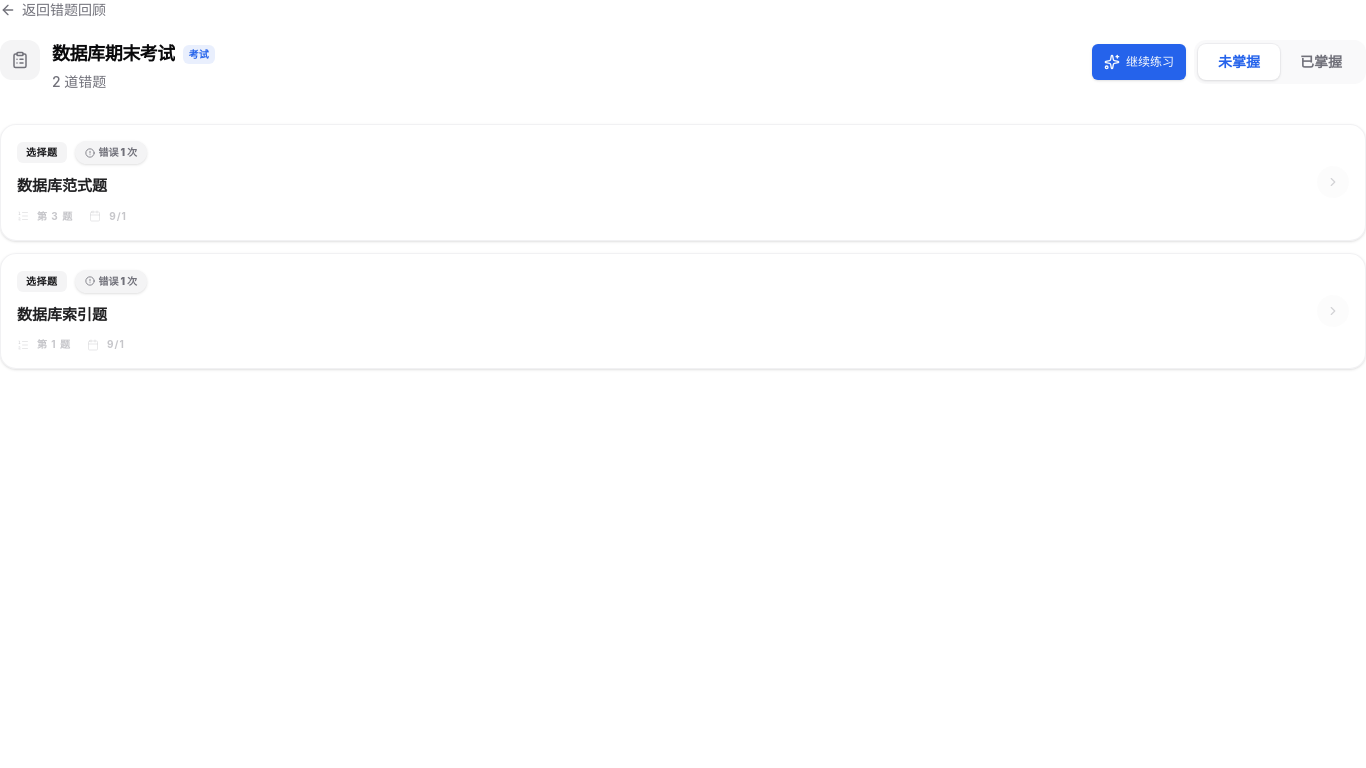
Test: WrongAnswerExamPage › asks for the question count per knowledge point before generating
Click the button "继续练习".
click(1139, 62)  # box [1092,44,1186,80]
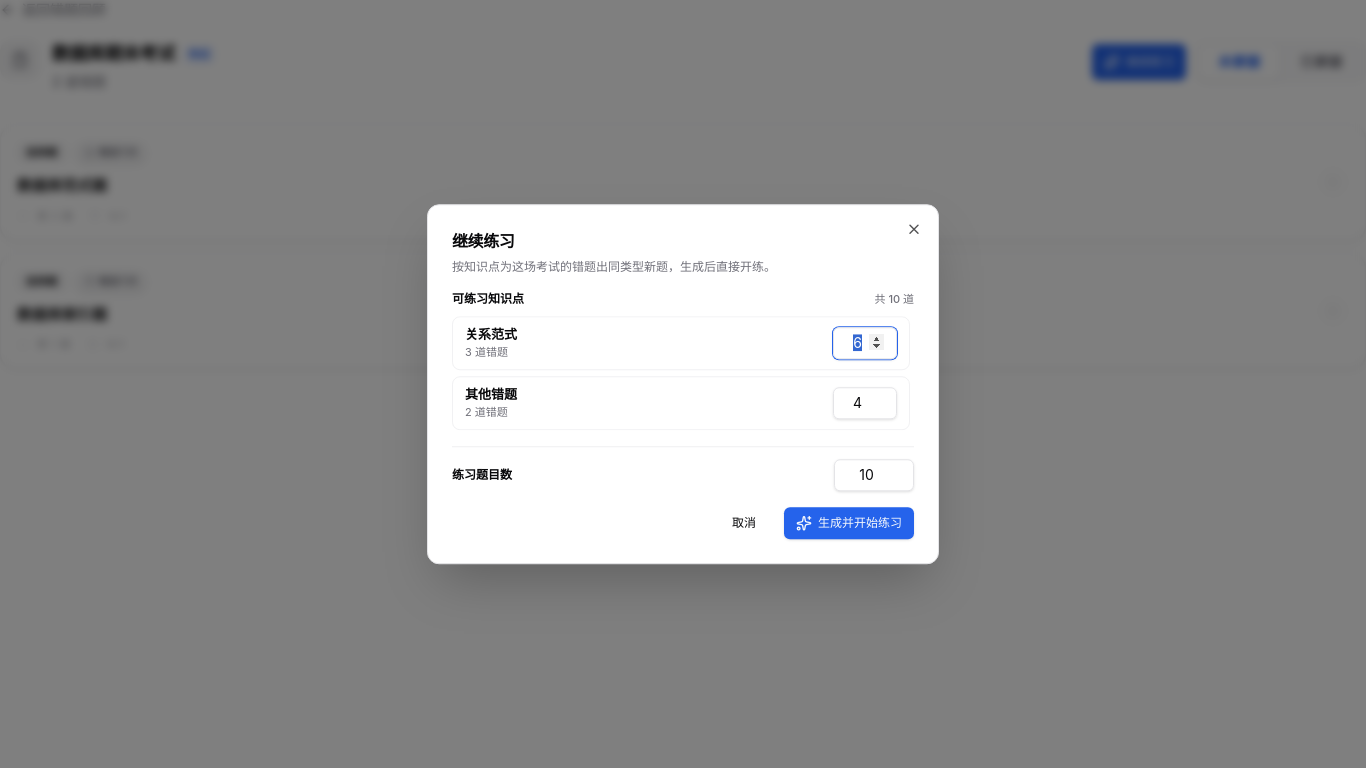
Check: the text "关系范式" is shown, box [465,326,517,342]
Check: the text "其他错题" is shown, box [465,386,517,402]
Check: the text "共 10 道" is shown, box [874,291,914,308]
